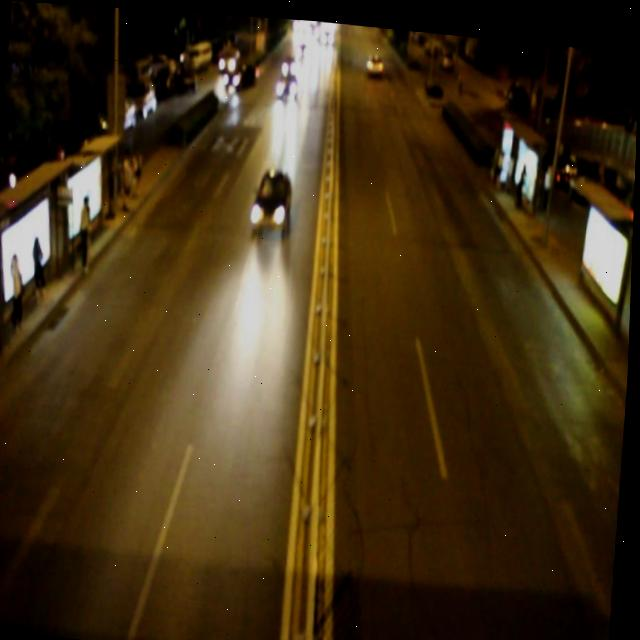car: (250, 161, 295, 229), (275, 65, 298, 97)
